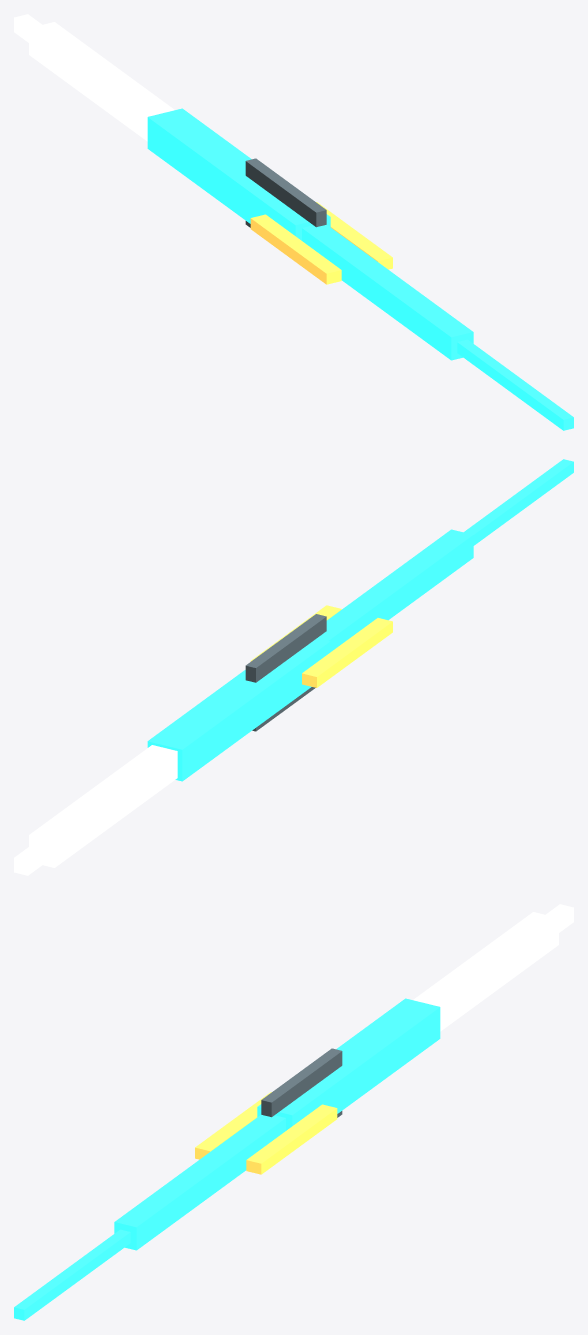
Rendered from ion-bolt.glb.
3 views of the same model, one above another, from view 1: azimuth 30°, elevation 25°; view 2: azimuth 150°, elevation 25°; view 3: azimuth 330°, elevation 25° (orthographic).
Parts seen in each view (by area): view 1: ion_bolt_core; view 2: ion_bolt_core; view 3: ion_bolt_core.
Part boxes in pixels (x1=…): ion_bolt_core: x1=14, y1=14, x2=573, y2=430; ion_bolt_core: x1=14, y1=459, x2=573, y2=875; ion_bolt_core: x1=14, y1=904, x2=573, y2=1320.
Size of the model in its own units: 0.057 by 0.052 by 0.814.
